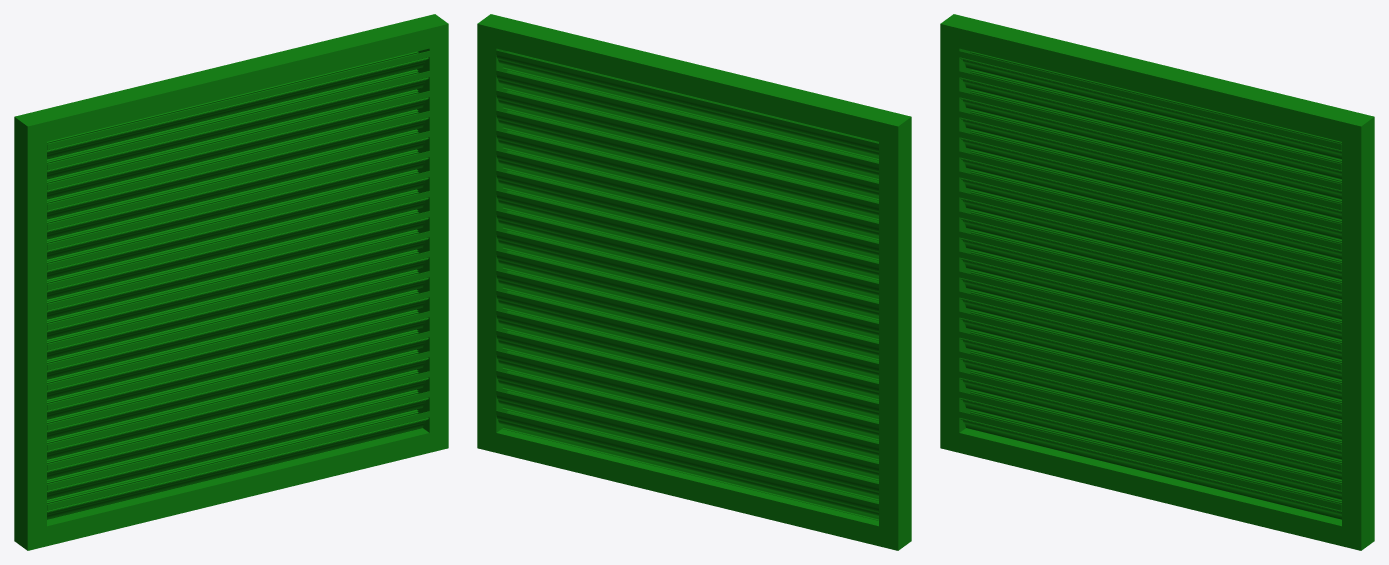
Rendered from PL-3075(STB)_max panel size v3.fbx.
The picture shows the model from 3 angles, left to right: view 1: azimuth 30°, elevation 25°; view 2: azimuth 150°, elevation 25°; view 3: azimuth 330°, elevation 25°; orthographic projection.
Visible parts, largest first — view 1: Body6; view 2: Body6; view 3: Body6.
Boxes of the visible parts, x1,y1,x2,y2 form: Body6: [14, 14, 448, 550]; Body6: [477, 14, 911, 550]; Body6: [940, 14, 1374, 550].
Size of the model in its own units: 110 by 106 by 6.32.
